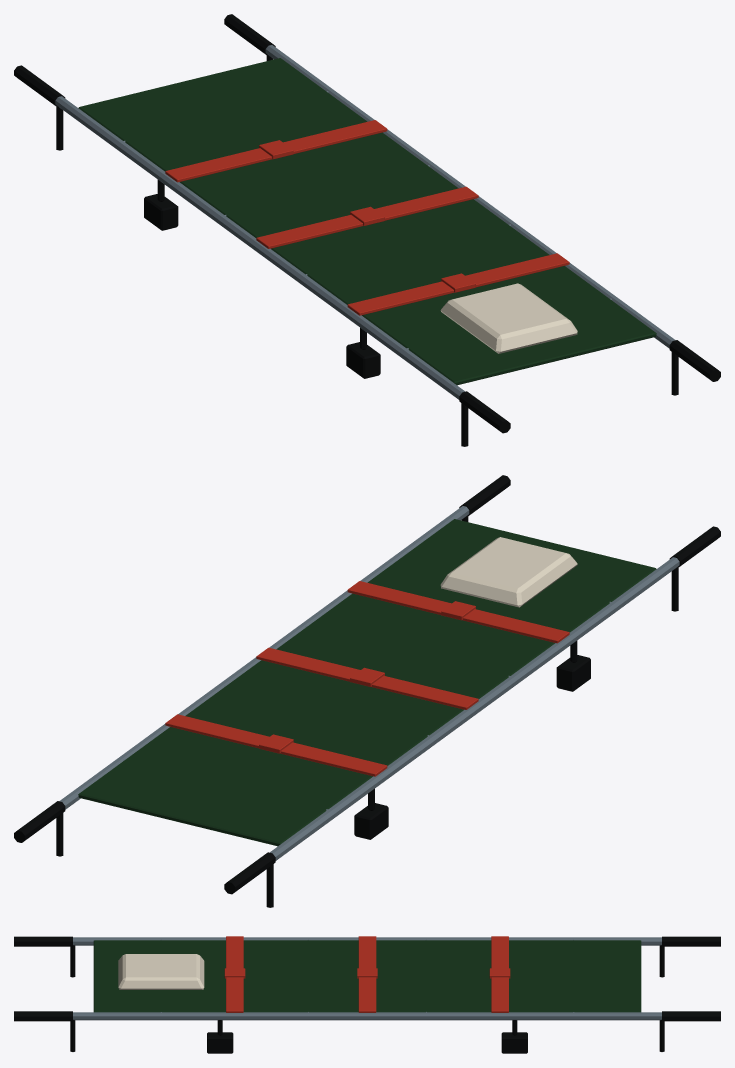
File: RESCUE_01_Stretcher.obj
The picture shows the model from 3 angles, top to bottom: view 1: azimuth 30°, elevation 25°; view 2: azimuth 150°, elevation 25°; view 3: azimuth 270°, elevation 25°; orthographic projection. The views are drawn at different scales.
Parts seen in each view (by area): view 1: RESCUE_01_Stretcher_Bed, RESCUE_01_Stretcher_Straps, RESCUE_01_Stretcher_Rails, RESCUE_01_Stretcher_Head_Pad, RESCUE_01_Stretcher_Handles, RESCUE_01_Stretcher_Feet; view 2: RESCUE_01_Stretcher_Bed, RESCUE_01_Stretcher_Straps, RESCUE_01_Stretcher_Rails, RESCUE_01_Stretcher_Head_Pad, RESCUE_01_Stretcher_Handles, RESCUE_01_Stretcher_Feet; view 3: RESCUE_01_Stretcher_Bed, RESCUE_01_Stretcher_Rails, RESCUE_01_Stretcher_Straps, RESCUE_01_Stretcher_Handles, RESCUE_01_Stretcher_Head_Pad, RESCUE_01_Stretcher_Feet.
Boxes of the visible parts, bbox=[...] form: RESCUE_01_Stretcher_Bed: bbox=[78, 58, 656, 385]; RESCUE_01_Stretcher_Straps: bbox=[165, 120, 569, 315]; RESCUE_01_Stretcher_Rails: bbox=[55, 45, 675, 399]; RESCUE_01_Stretcher_Head_Pad: bbox=[440, 283, 577, 353]; RESCUE_01_Stretcher_Handles: bbox=[14, 14, 720, 446]; RESCUE_01_Stretcher_Feet: bbox=[144, 179, 380, 378]; RESCUE_01_Stretcher_Bed: bbox=[78, 519, 656, 846]; RESCUE_01_Stretcher_Straps: bbox=[165, 581, 569, 776]; RESCUE_01_Stretcher_Rails: bbox=[59, 506, 679, 860]; RESCUE_01_Stretcher_Head_Pad: bbox=[440, 537, 577, 607]; RESCUE_01_Stretcher_Handles: bbox=[14, 475, 720, 907]; RESCUE_01_Stretcher_Feet: bbox=[354, 640, 590, 839]; RESCUE_01_Stretcher_Bed: bbox=[93, 940, 641, 1012]; RESCUE_01_Stretcher_Rails: bbox=[73, 937, 661, 1020]; RESCUE_01_Stretcher_Straps: bbox=[224, 936, 510, 1012]; RESCUE_01_Stretcher_Handles: bbox=[14, 936, 720, 1051]; RESCUE_01_Stretcher_Head_Pad: bbox=[118, 954, 204, 989]; RESCUE_01_Stretcher_Feet: bbox=[207, 1020, 527, 1053].
Size of the model in its own units: 0.65 by 0.18 by 2.4.
